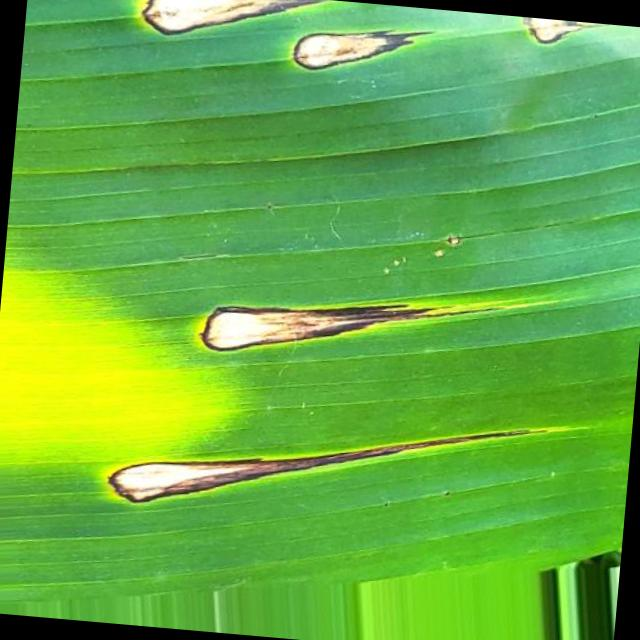Banana_Black_Sigatoka: (114, 0, 612, 147), (2, 408, 451, 566), (176, 216, 504, 398)
